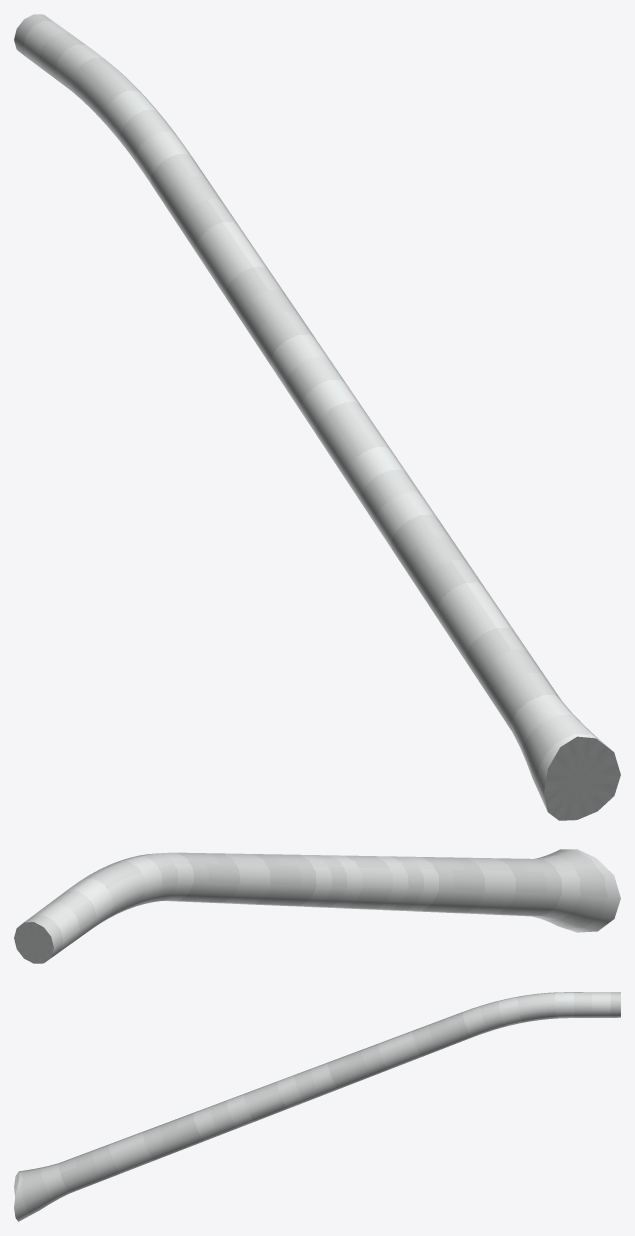
File: luminairearm_caltrans10ftstraight_inv.obj
3 views of the same model, one above another, from view 1: azimuth 30°, elevation 25°; view 2: azimuth 150°, elevation 25°; view 3: azimuth 270°, elevation 25° (orthographic). The views are drawn at different scales.
Parts seen in each view (by area): view 1: luminairearm_caltrans10ftstraight_inv; view 2: luminairearm_caltrans10ftstraight_inv; view 3: luminairearm_caltrans10ftstraight_inv.
Boxes of the visible parts, left/top/right/bottom form: luminairearm_caltrans10ftstraight_inv: left=14, top=14, right=620, bottom=820; luminairearm_caltrans10ftstraight_inv: left=14, top=849, right=620, bottom=963; luminairearm_caltrans10ftstraight_inv: left=14, top=992, right=620, bottom=1221.
Size of the model in its own units: 0.081 by 0.4111 by 1.
